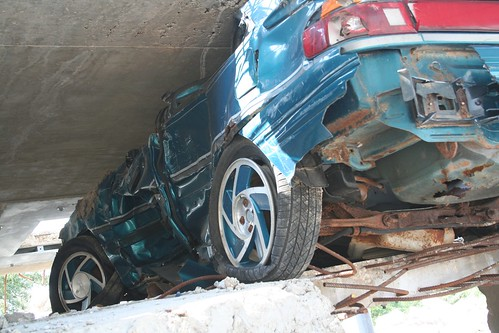car: (55, 1, 499, 320)
